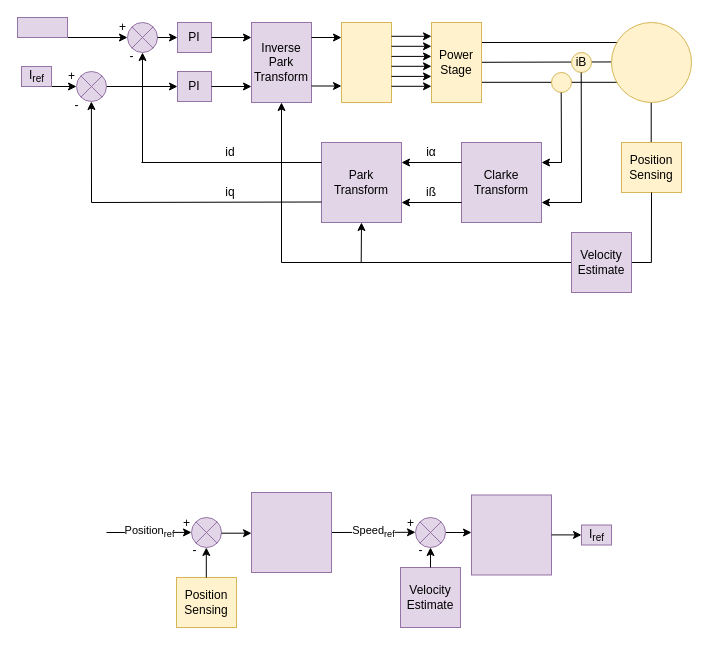
Some shapes in this 709 by 645 pixel diagram are drawn without their labels. Here are the shapes that lost their labels. From the top down, the centre of each, then its label:
(x=42, y=27): I ref = 0
(x=366, y=62): µC + PWM
(x=561, y=82): iA
(x=651, y=62): Motor
(x=291, y=532): Position Controller
(x=511, y=534): Speed Controller
